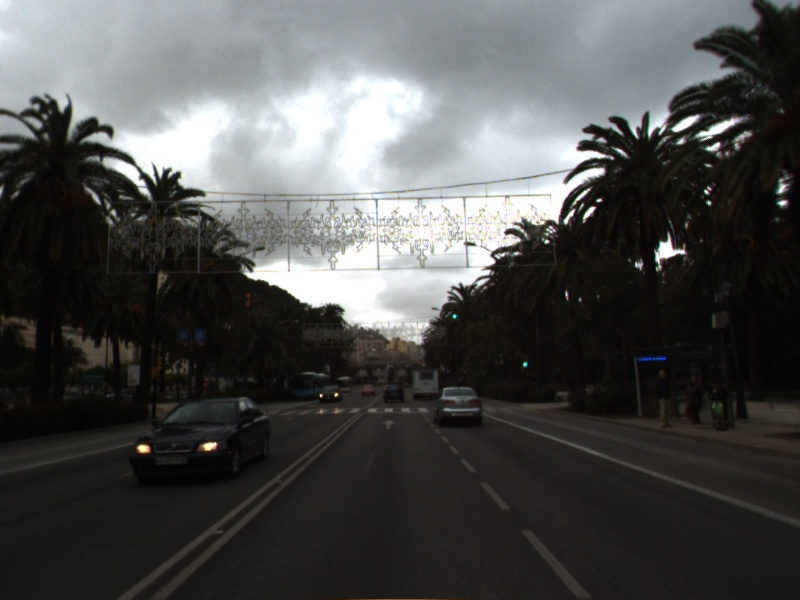STRAIGHT: (378, 417, 401, 431)
